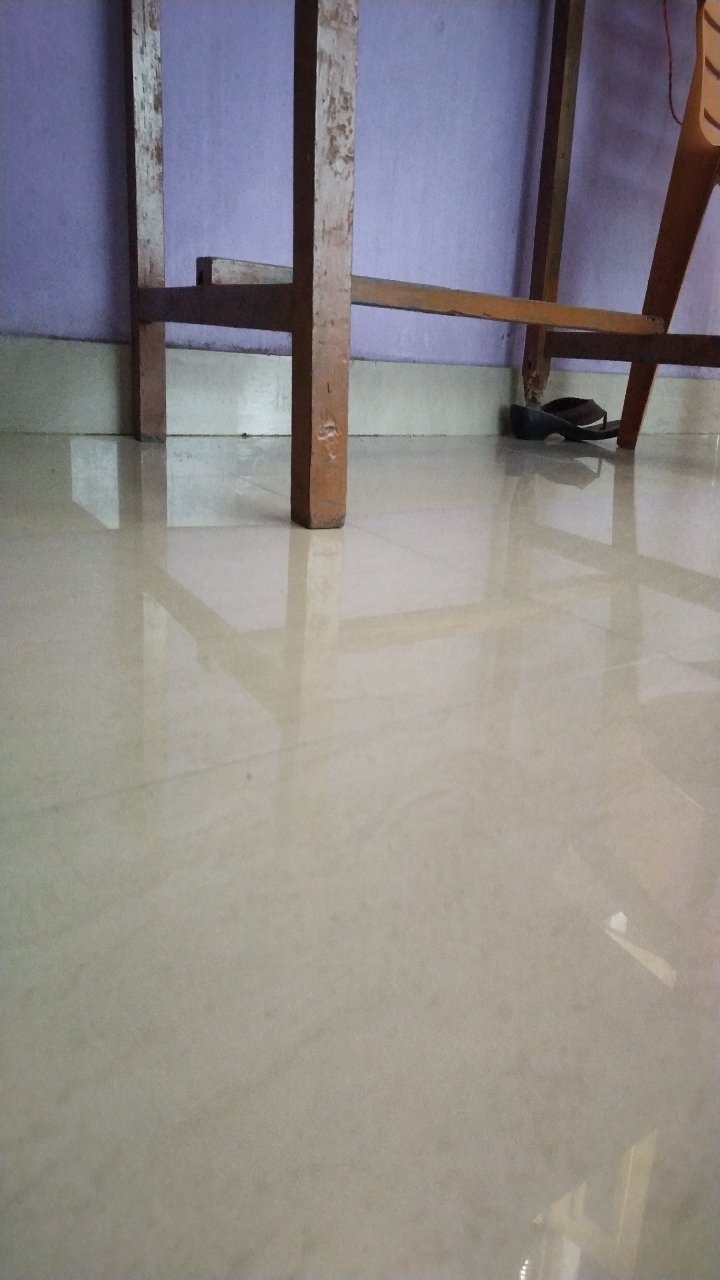Furnitures: (98, 180, 467, 545), (509, 103, 720, 456)
